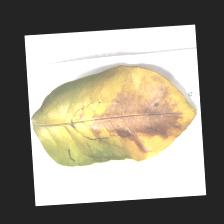black spot: (70, 90, 180, 146)
